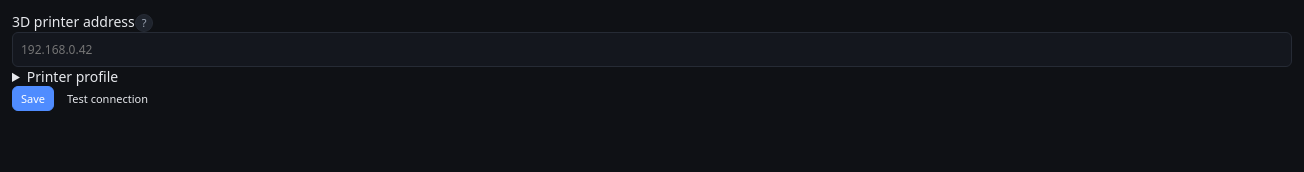
PrinterSettings › the printer address › reports a printer that did not answer
Check: the field labelled "3D printer address" is shown, box [12,32,1292,66]
Click the button "Test connection".
click(107, 98)  # box [58,86,157,110]
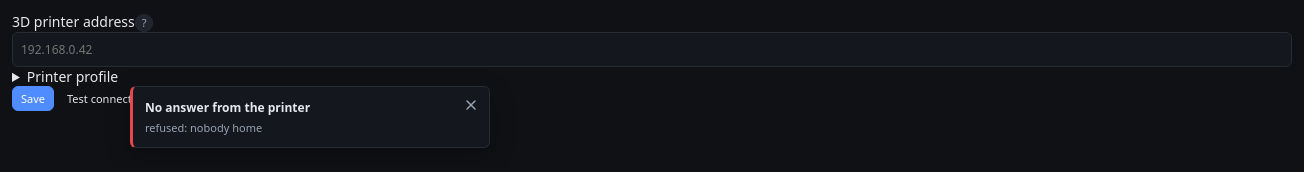
Check: the text "No answer from the printer" is shown, box [145,98,310,116]
